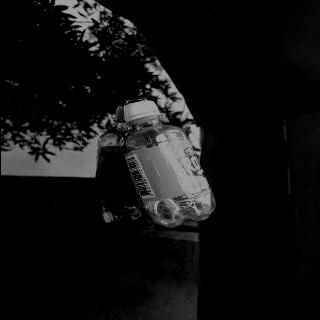bottle: (120, 100, 218, 229)
